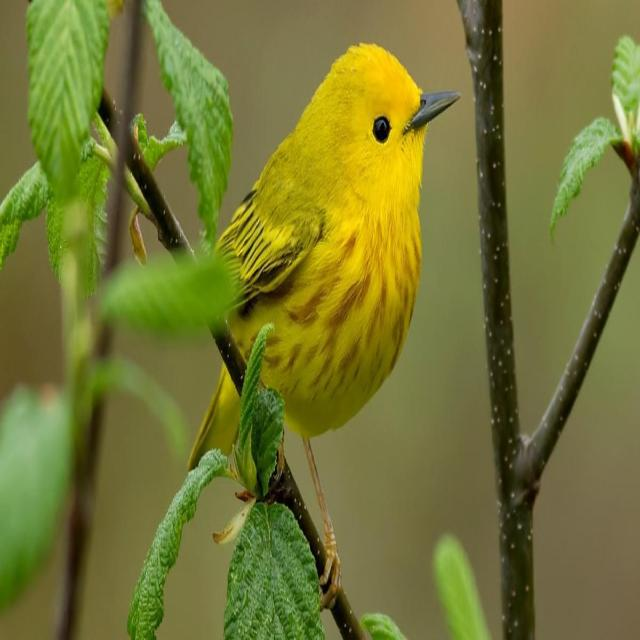other: (207, 27, 468, 435)
